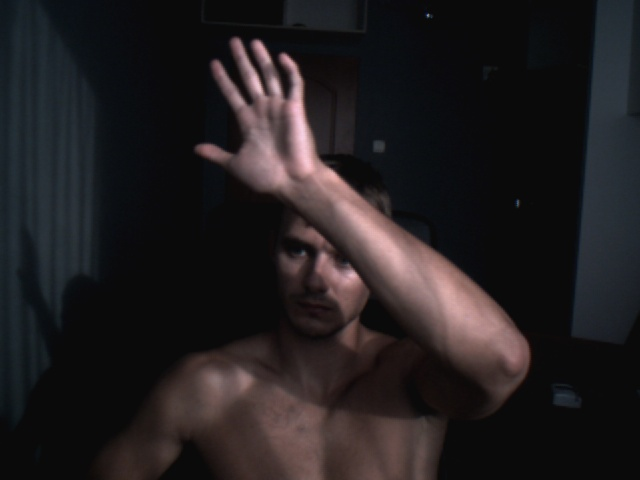open: (192, 37, 315, 189)
